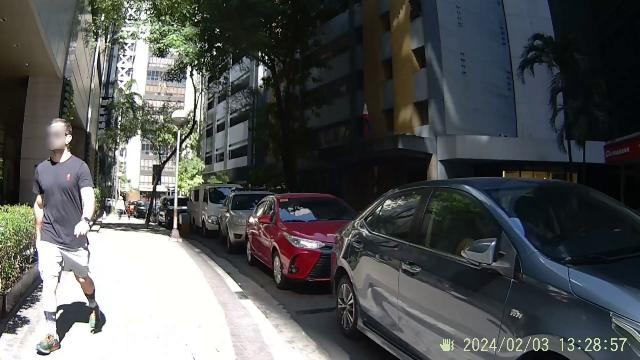lamp_post: (168, 109, 192, 237)
